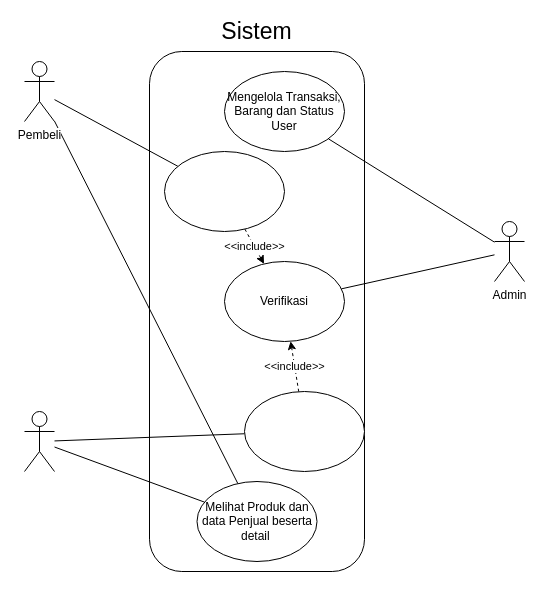
Some shapes in this 544 by 589 pixel diagram are drawn without their labels. Each missing label, with the centre of its shape:
"Melakukan Transaksi" goes at (x=304, y=431).
"Menambahkan produk penjualan" goes at (x=224, y=191).
"Supplier" goes at (x=39, y=441).
